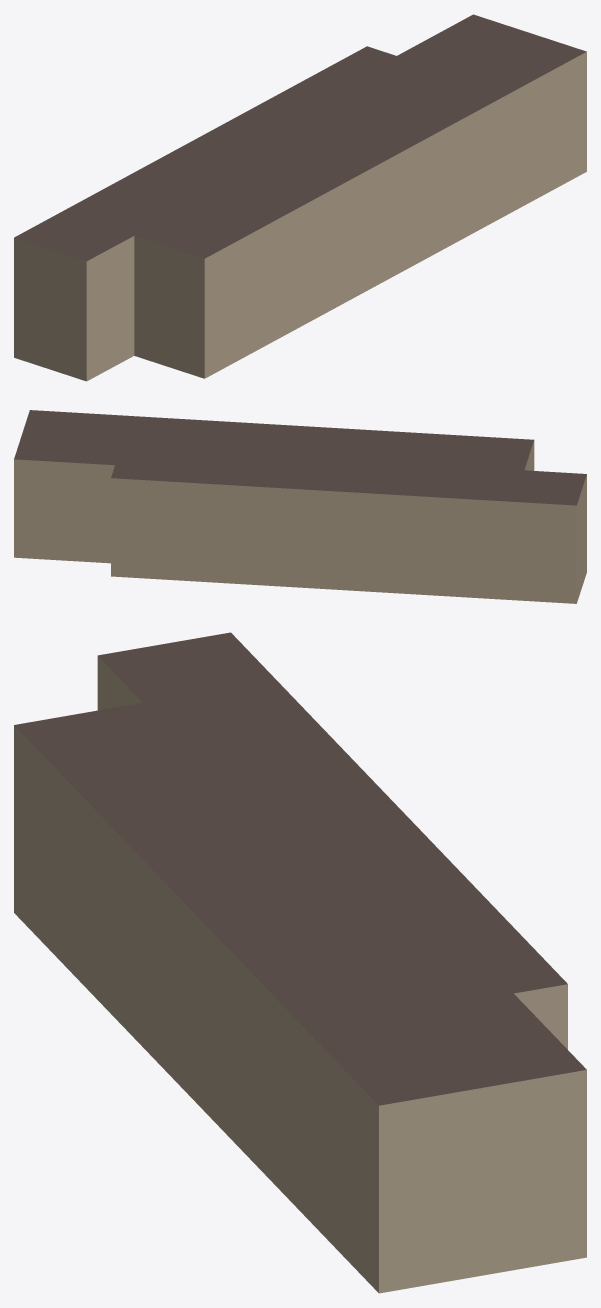
3 views of the same model, one above another, from view 1: azimuth 30°, elevation 25°; view 2: azimuth 150°, elevation 25°; view 3: azimuth 270°, elevation 25° (orthographic). The views are drawn at different scales.
Visible parts, largest first — view 1: HP-w1201856104; view 2: HP-w1201856104; view 3: HP-w1201856104.
Part boxes in pixels (x1=…): HP-w1201856104: x1=14, y1=14, x2=586, y2=381; HP-w1201856104: x1=14, y1=410, x2=586, y2=603; HP-w1201856104: x1=14, y1=632, x2=586, y2=1293.
Bounding box in the file's own units: 48.65 × 9 × 24.89.
